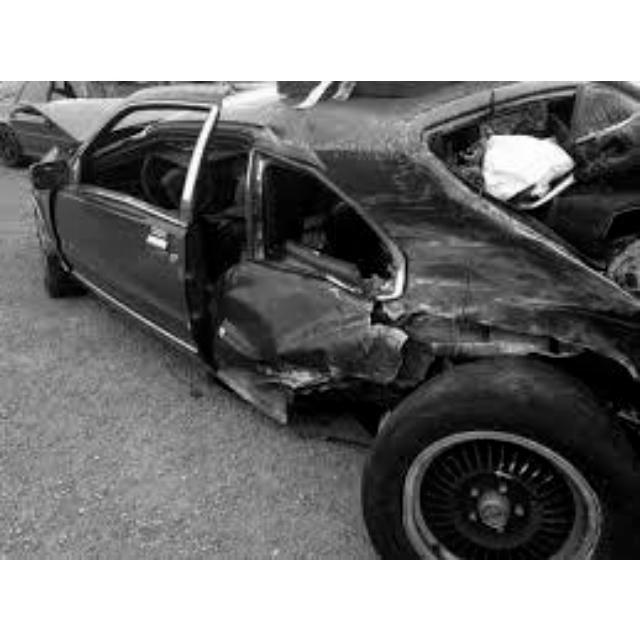doorouter-dent: (215, 273, 395, 394)
fender-dent: (430, 268, 622, 379)
